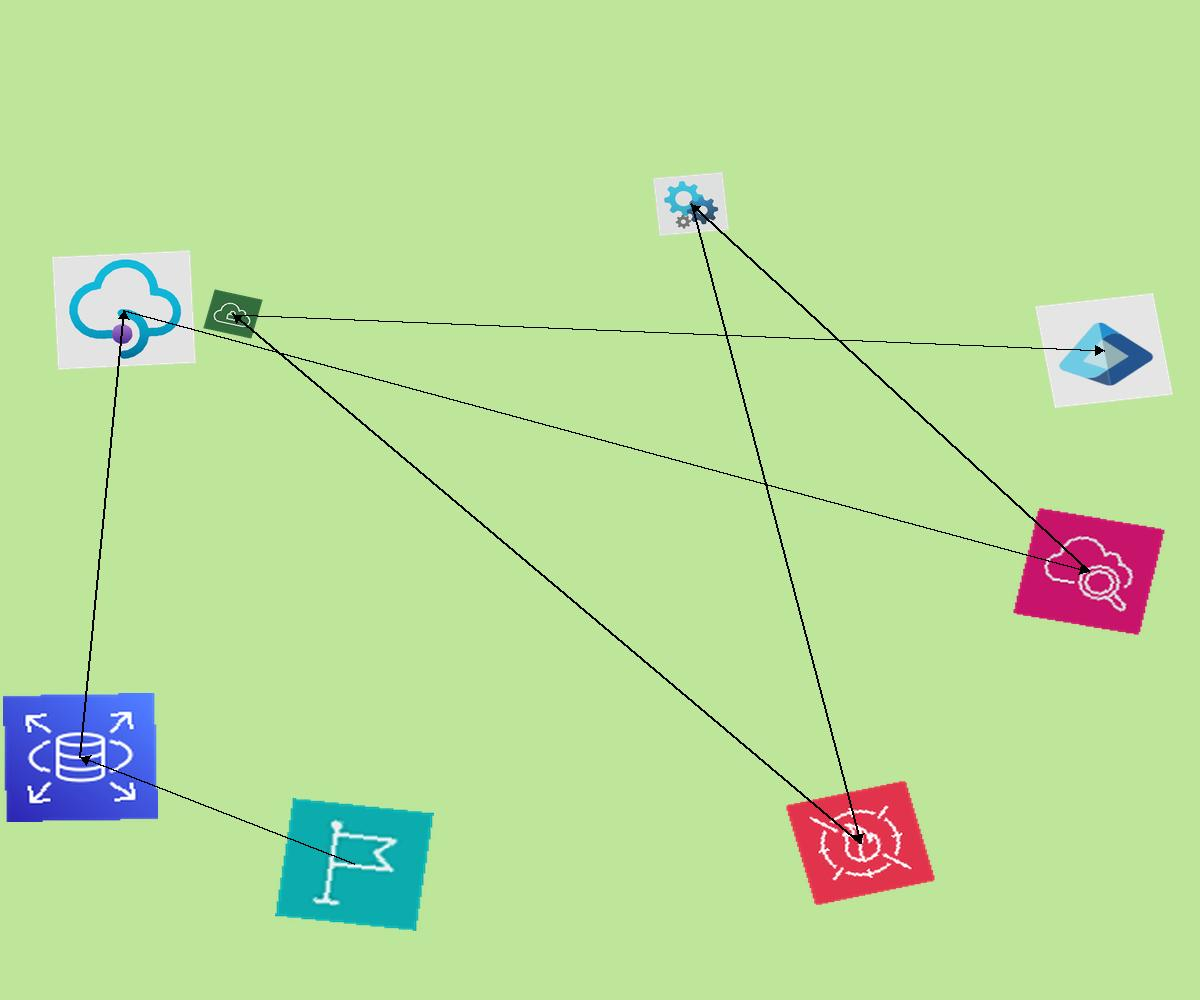AWS-CloudWatch: (1012, 507, 1166, 636)
AWS-Private_vpc: (203, 289, 263, 339)
AWS-RDS: (3, 693, 158, 822)
AWS-Region: (275, 798, 434, 931)
AWS-WAF: (785, 780, 936, 906)
Azure_api: (653, 172, 729, 236)
Azure_api_gateway: (52, 250, 196, 370)
Azure_microsoft_entra: (1035, 293, 1173, 408)
